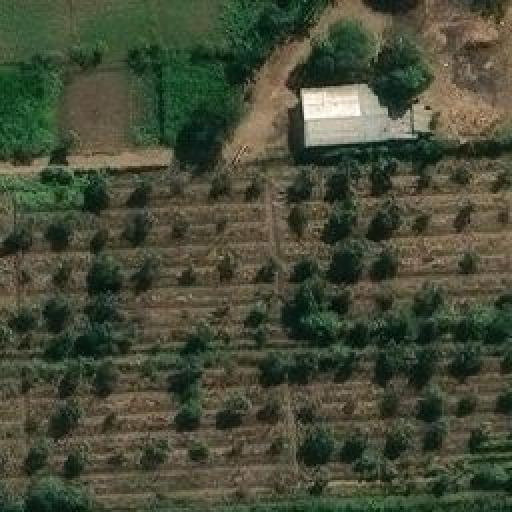manzanas: (299, 76, 439, 151)
